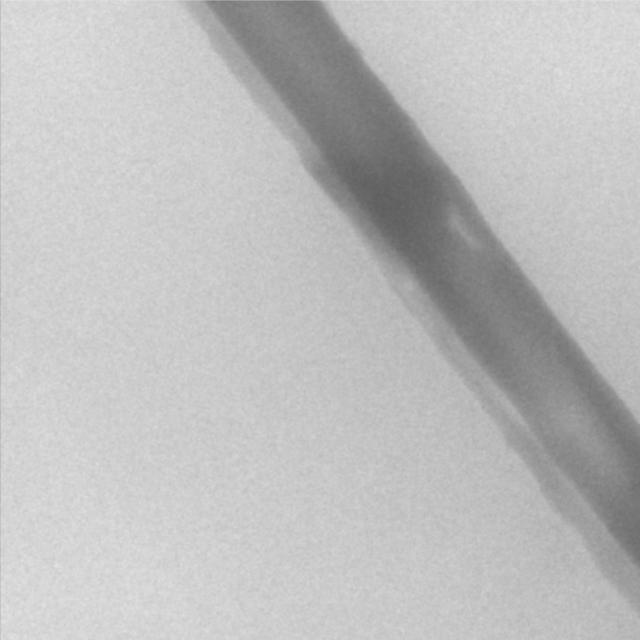unfused: (449, 208, 477, 244)
